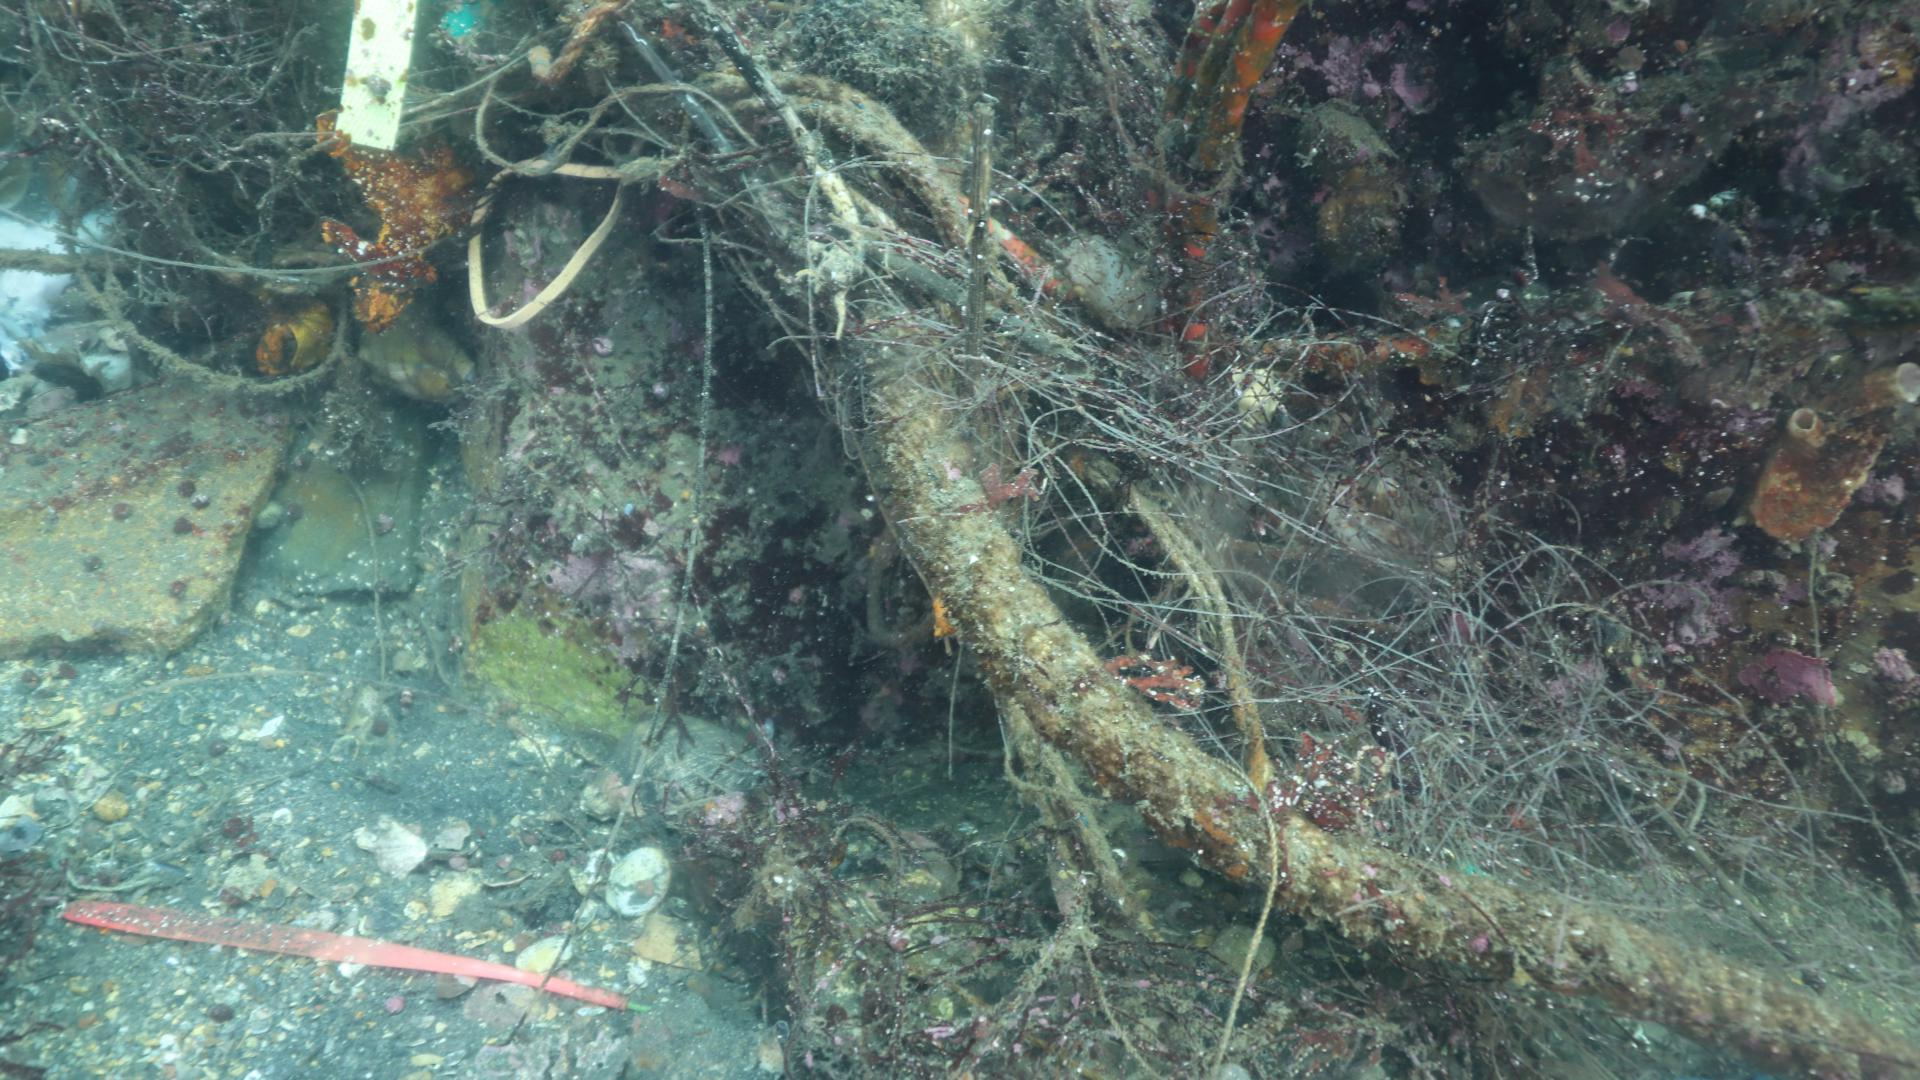bundle of ropes: (692, 71, 1920, 1080)
